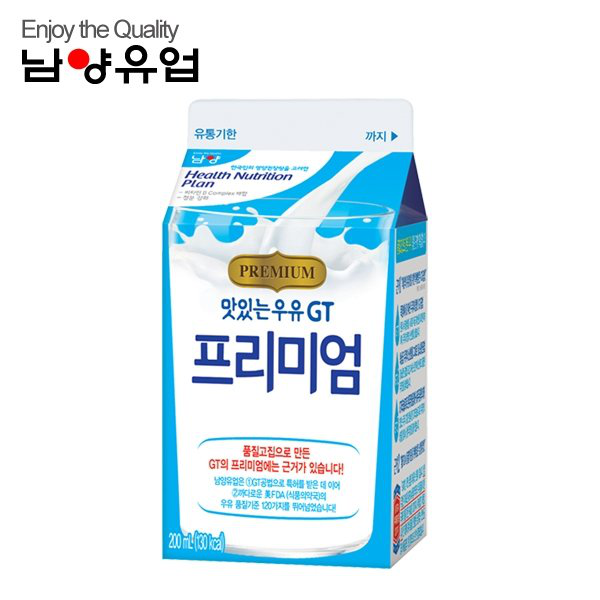milk: (162, 96, 426, 568)
